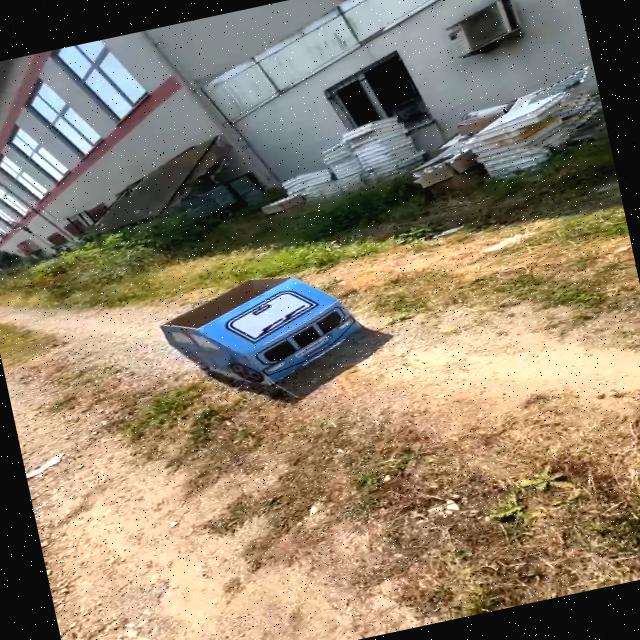blue_car: (133, 244, 401, 422)
